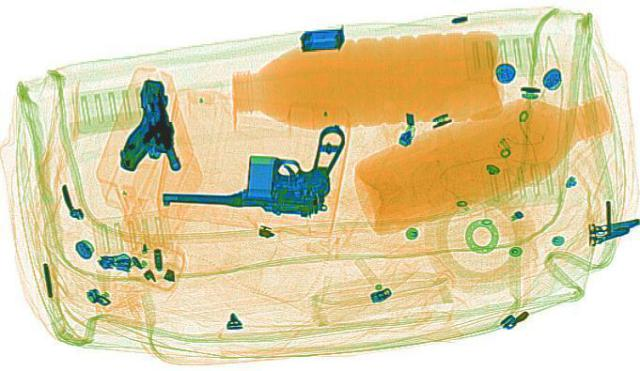Gun: (160, 109, 356, 218), (103, 77, 181, 171)
